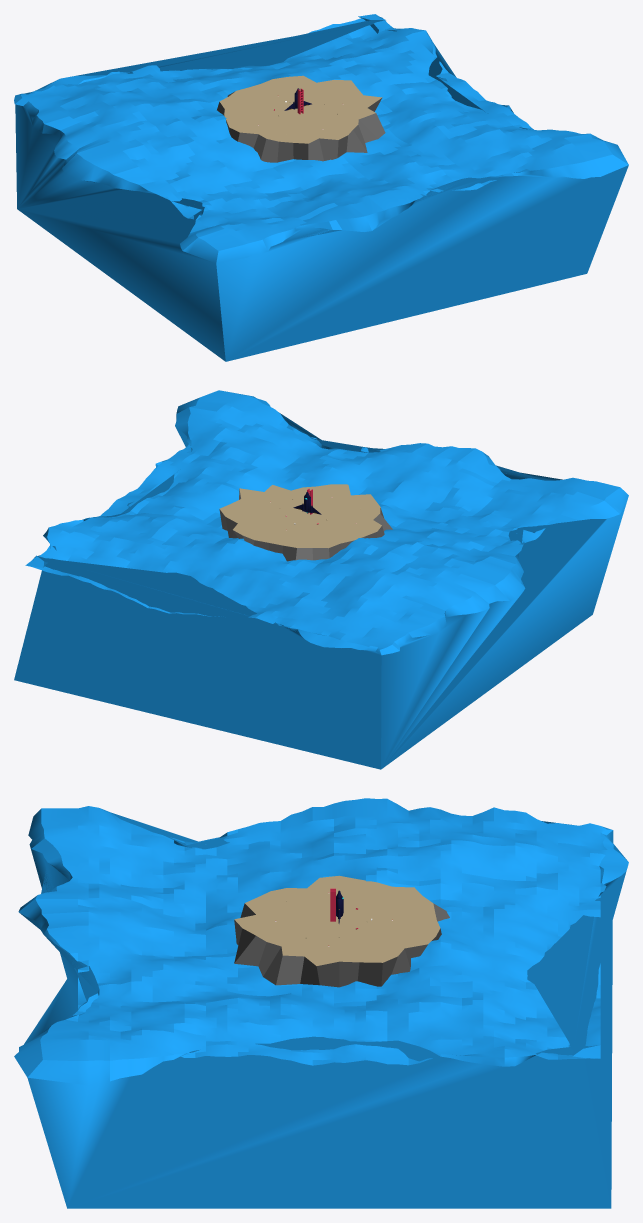
File: fusee.glb
3 renders of one model, top to bottom at view 1: azimuth 30°, elevation 25°; view 2: azimuth 150°, elevation 25°; view 3: azimuth 270°, elevation 25°, orthographic. The views are drawn at different scales.
Visible parts, largest first — view 1: waterLowPoly, rocher de decolage; view 2: waterLowPoly, rocher de decolage; view 3: waterLowPoly, rocher de decolage.
Boxes of the visible parts, box(x1,y1,x2,y2) form: waterLowPoly: box(14, 14, 628, 361); rocher de decolage: box(217, 75, 385, 162); waterLowPoly: box(14, 390, 628, 769); rocher de decolage: box(219, 484, 392, 561); waterLowPoly: box(14, 798, 628, 1208); rocher de decolage: box(234, 875, 449, 987).
Size of the model in its own units: 245 by 81.63 by 226.
